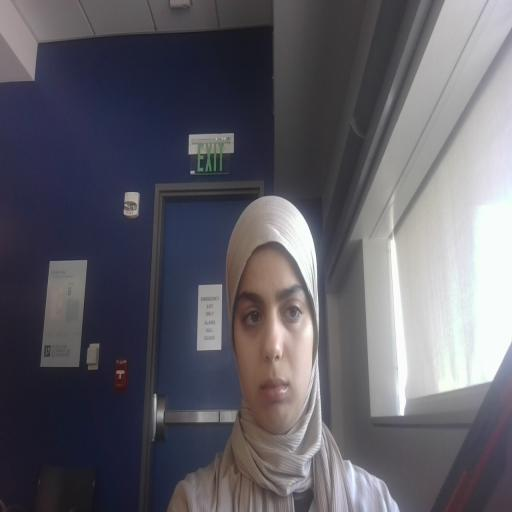phone: (401, 320, 511, 512)
